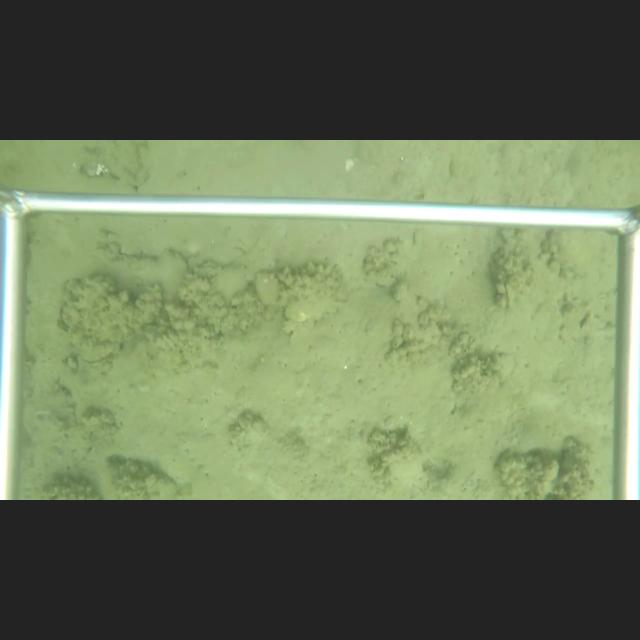Oyster-Closed: (542, 232, 615, 278), (282, 279, 349, 321)
Oyster-Open: (76, 338, 122, 368), (53, 299, 74, 334)
